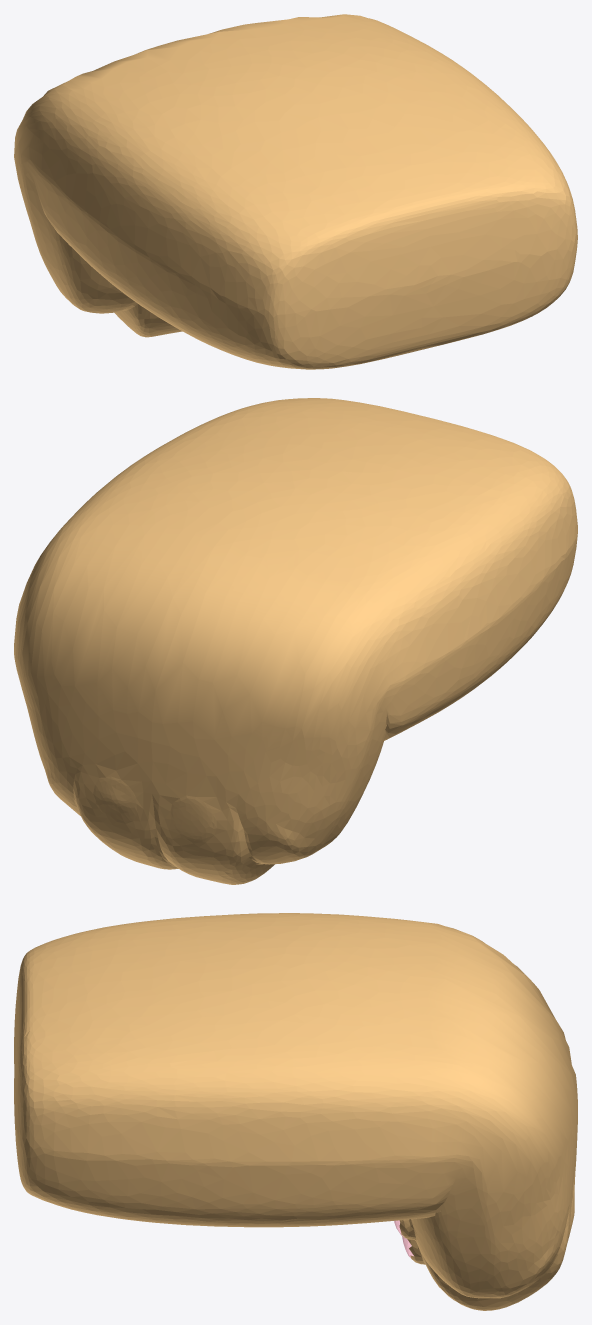
Rendered from pata_o_3.glb.
3 views of the same model, one above another, from view 1: azimuth 30°, elevation 25°; view 2: azimuth 150°, elevation 25°; view 3: azimuth 270°, elevation 25° (orthographic).
Size of the model in its own units: 0.0965 by 0.0769 by 0.1229.
